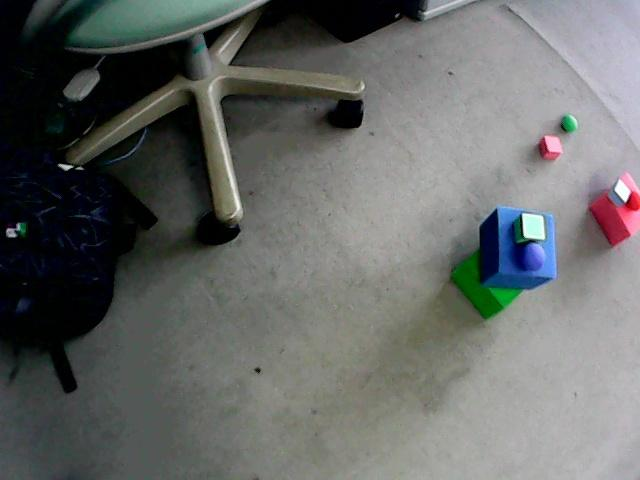blue_block: (480, 206, 556, 288)
red_block: (590, 191, 639, 245), (539, 135, 562, 159)
